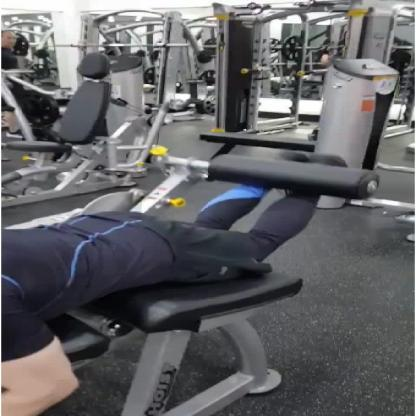reg curl machine: (0, 150, 383, 416)
